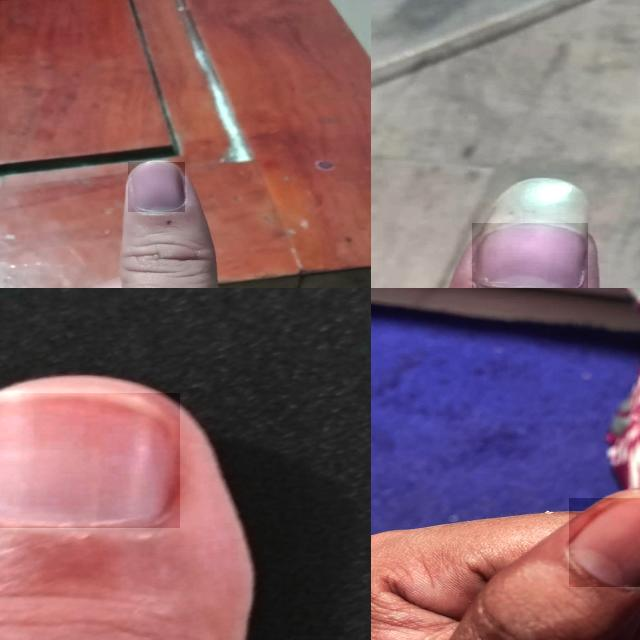sehat: (0, 393, 180, 528), (472, 224, 588, 288), (569, 499, 640, 587), (129, 163, 185, 212)
